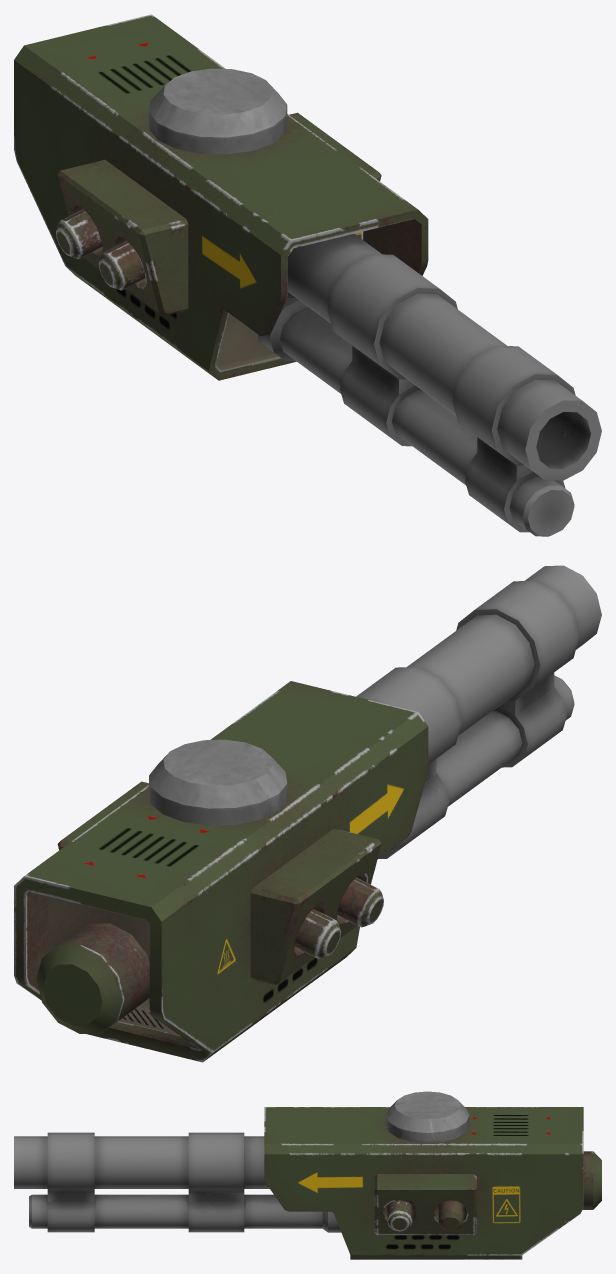
The model's file is SM_MechShotgun.fbx.
3 renders of one model, top to bottom at view 1: azimuth 30°, elevation 25°; view 2: azimuth 150°, elevation 25°; view 3: azimuth 270°, elevation 25°, orthographic. The views are drawn at different scales.
Parts seen in each view (by area): view 1: SM_MechShotgun; view 2: SM_MechShotgun; view 3: SM_MechShotgun.
Part boxes in pixels (<box>): SM_MechShotgun: <box>14,14,601,536</box>; SM_MechShotgun: <box>14,565,601,1062</box>; SM_MechShotgun: <box>14,1091,601,1259</box>.
Bounding box in the file's own units: 71.85 × 56.31 × 221.
